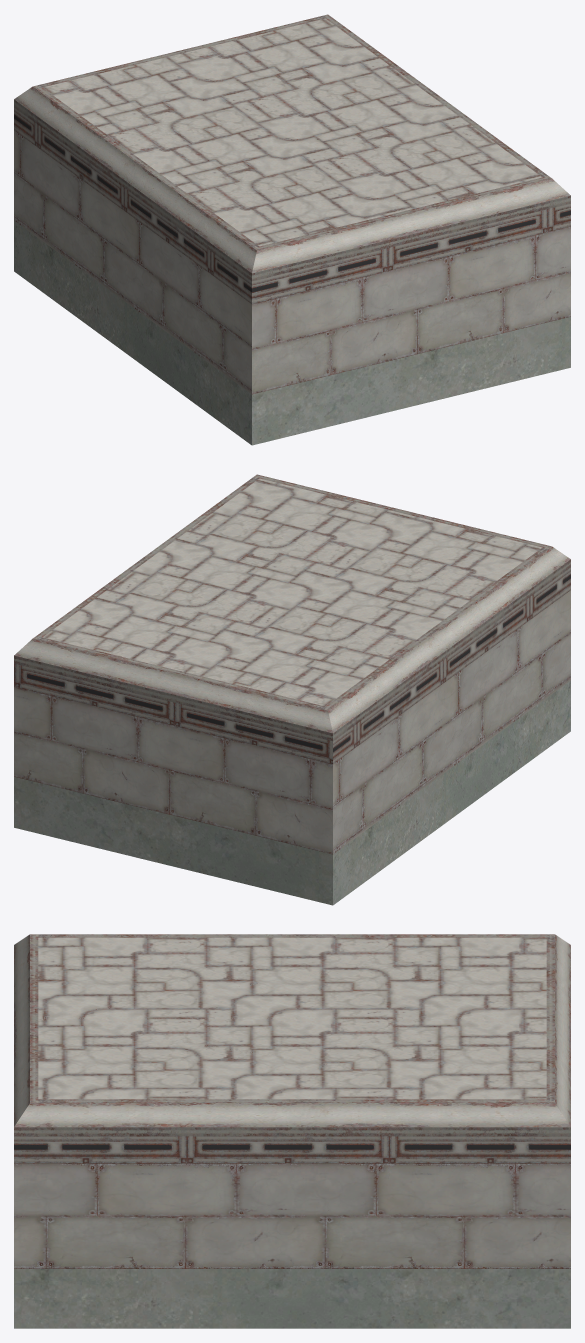
File: Level_01_Backdrop_Building_E.fbx
3 renders of one model, top to bottom at view 1: azimuth 30°, elevation 25°; view 2: azimuth 150°, elevation 25°; view 3: azimuth 270°, elevation 25°, orthographic. The views are drawn at different scales.
Parts seen in each view (by area): view 1: Geometry_LLevel_01_Backdrop_Building_E; view 2: Geometry_LLevel_01_Backdrop_Building_E; view 3: Geometry_LLevel_01_Backdrop_Building_E.
Part boxes in pixels (box(x1,y1,x2,y2)): Geometry_LLevel_01_Backdrop_Building_E: box(14, 14, 570, 445); Geometry_LLevel_01_Backdrop_Building_E: box(14, 474, 570, 905); Geometry_LLevel_01_Backdrop_Building_E: box(14, 934, 570, 1328).
Bounding box in the file's own units: 2400 × 1345 × 3100.
